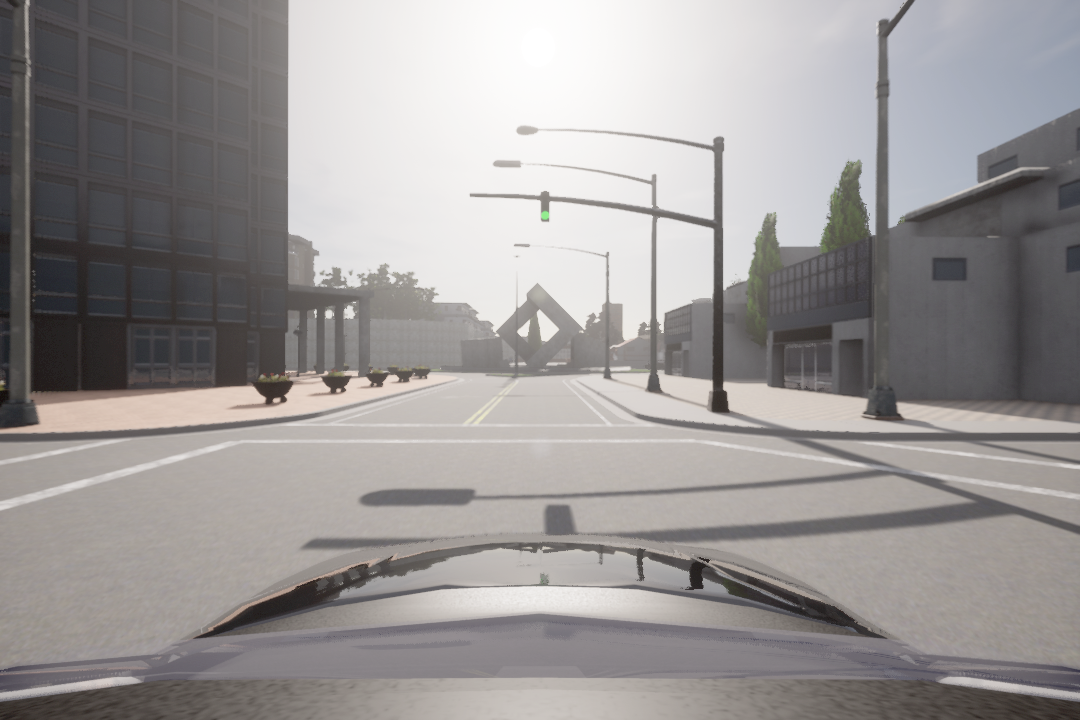TrafficLight: (537, 190, 555, 228)
